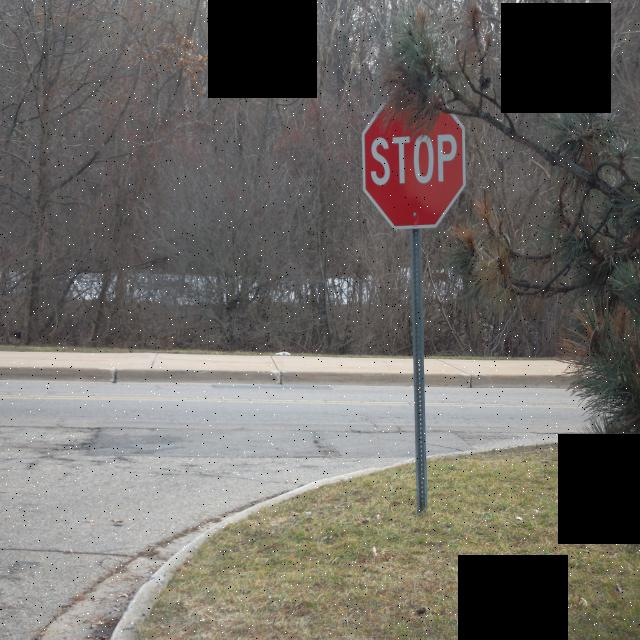stop: (360, 88, 470, 236)
